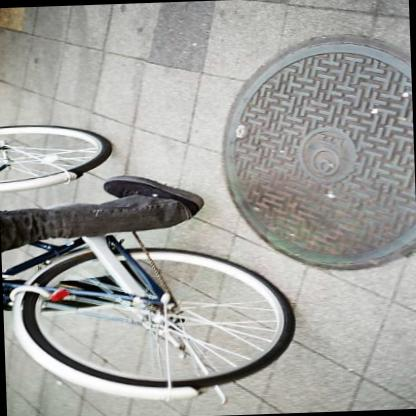manholes: (203, 17, 416, 284)
